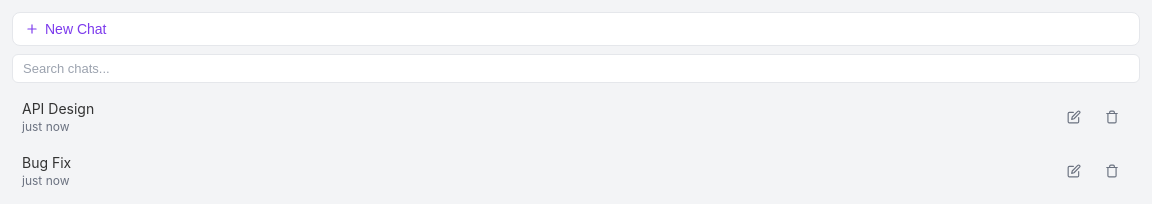
AiChatHistory › filters chats by search query
Type "api" into the field with placeholder "Search chats..." at (576, 68), box top-left (12, 54), bottom-right (1140, 83)
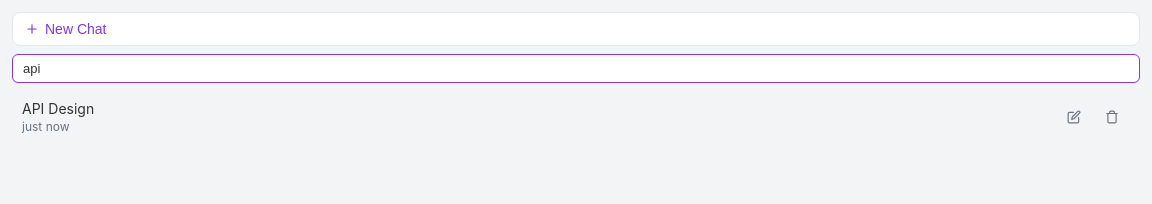
Expected: the text "API Design" is shown, top-left (22, 100), bottom-right (94, 117)
Result: the text "Bug Fix" is gone
